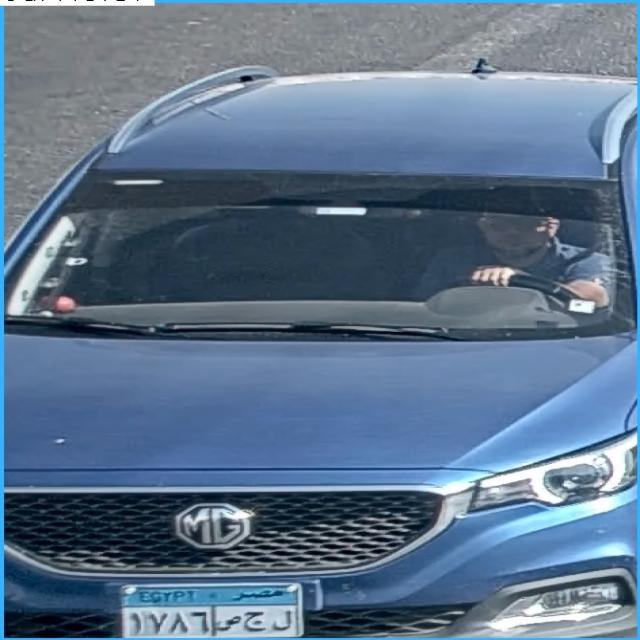windshield: (10, 172, 634, 337)
